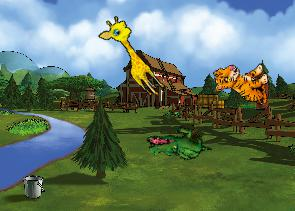crocodile: (144, 118, 212, 171)
giraffe: (94, 12, 175, 100)
tiger: (212, 58, 272, 111)
